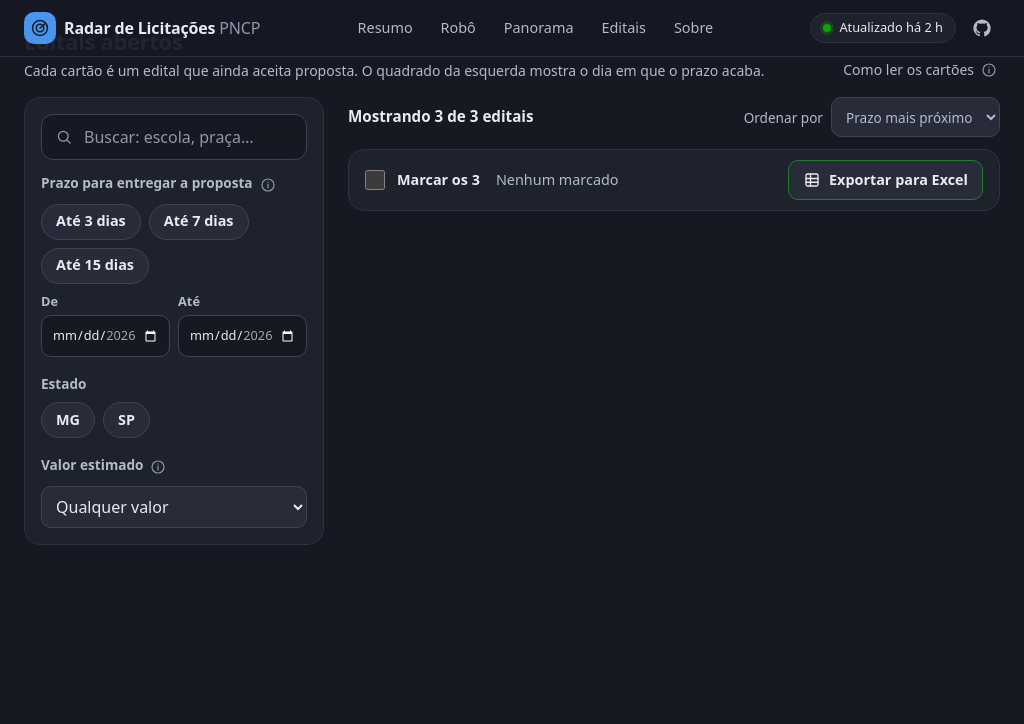
Scenario: App › os botões de estado e de prazo da lista alternam e somam filtros
(page scrolled)
Click the button "MG".
click(68, 420)  # box x1=41 y1=402 x2=95 y2=438
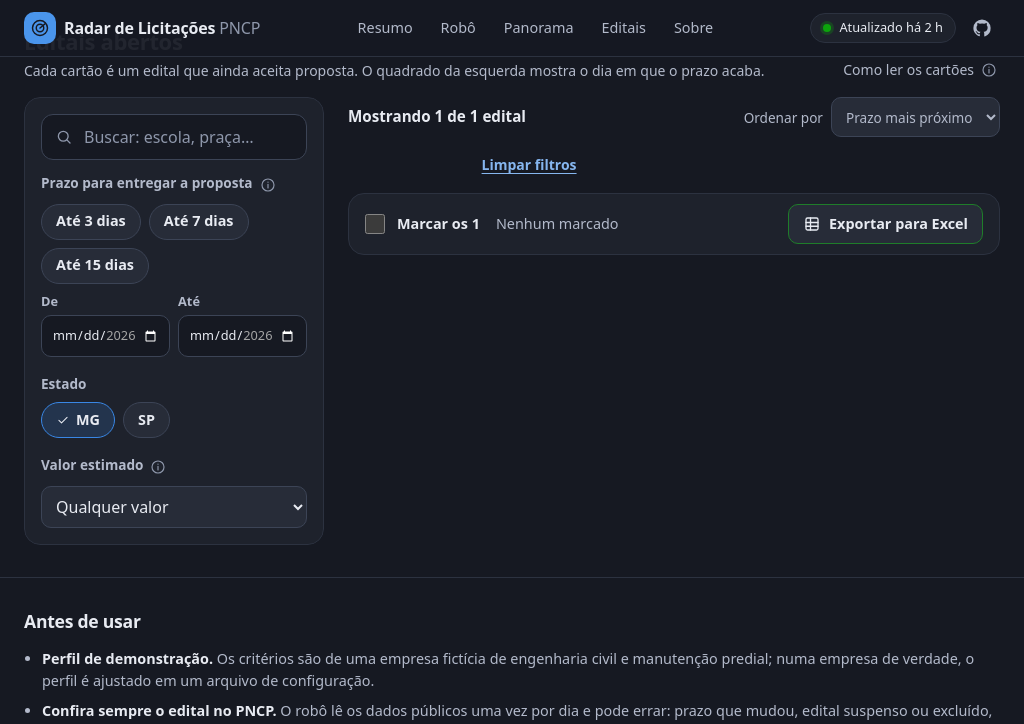
Click the button "MG".
click(78, 420)  # box x1=41 y1=402 x2=115 y2=438
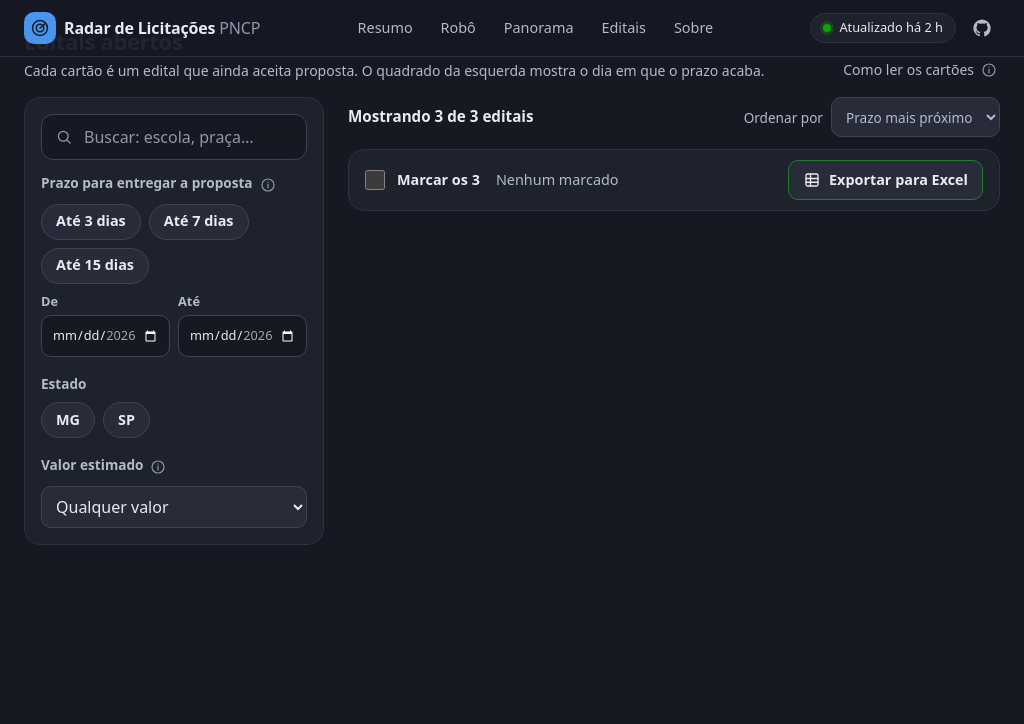
Click the button "SP".
click(126, 420)  # box x1=103 y1=402 x2=150 y2=438
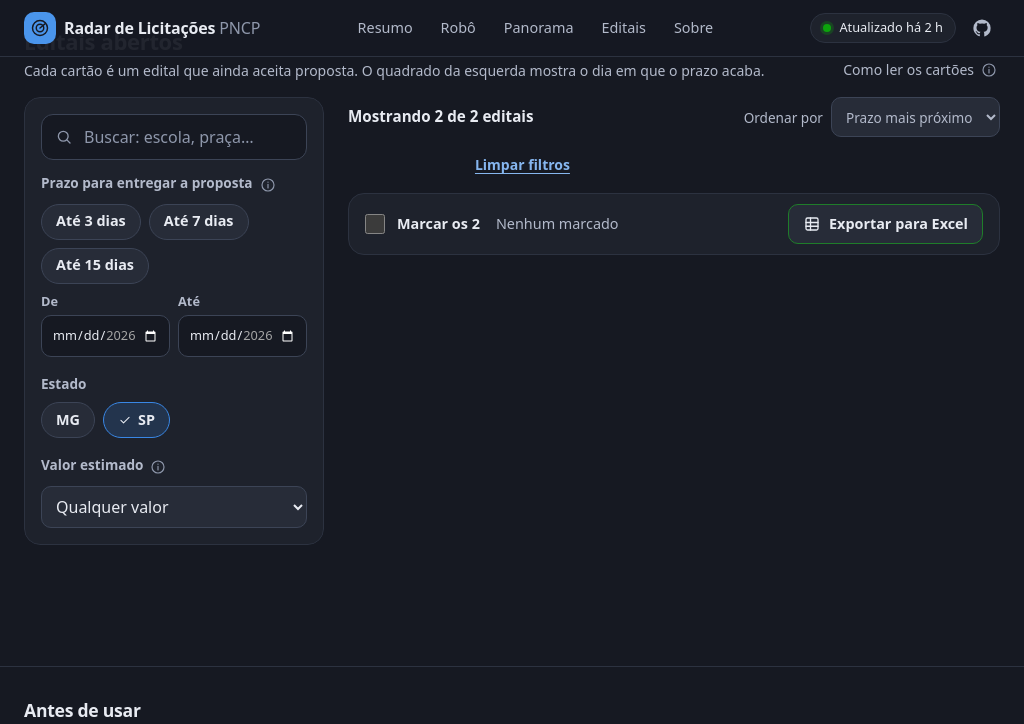
Click the button "Até 7 dias".
click(199, 222)  # box x1=149 y1=204 x2=249 y2=240
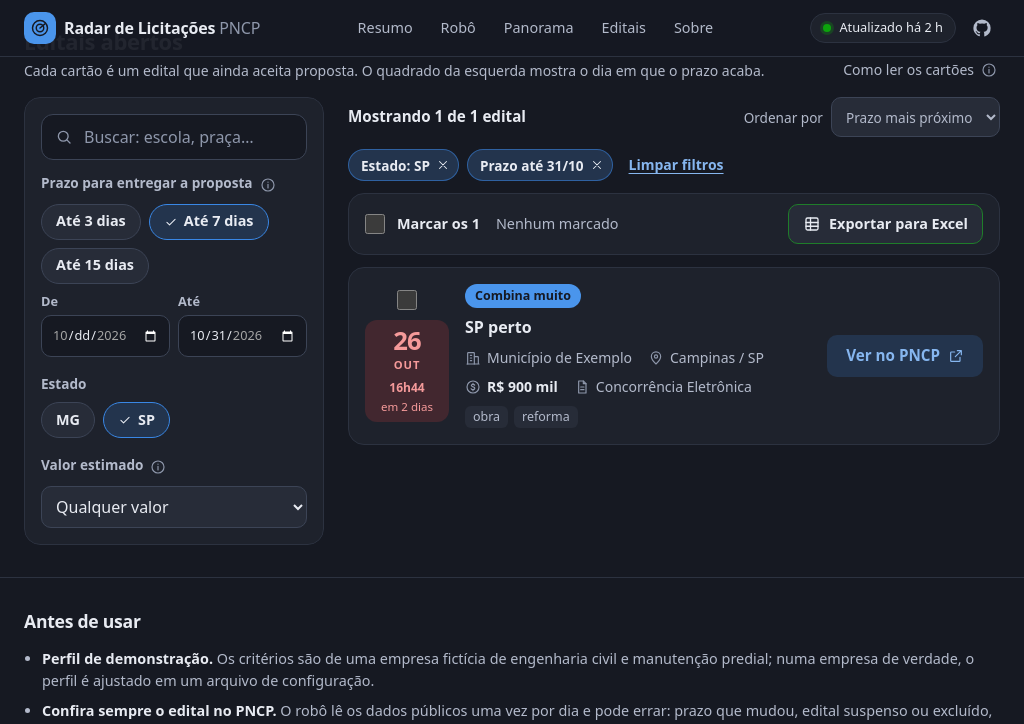
Expected: the text "SP perto" is shown, x1=465 y1=316 x2=532 y2=338
